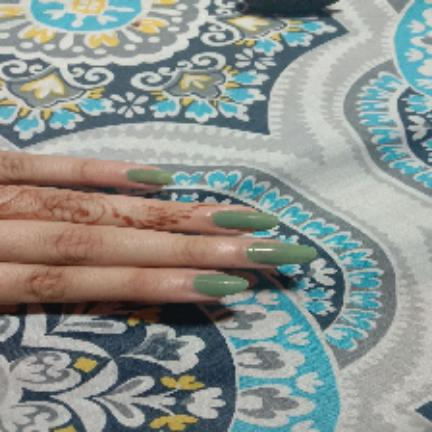Nail: (247, 243, 318, 265), (212, 210, 278, 230), (192, 274, 249, 296), (127, 169, 173, 185)
